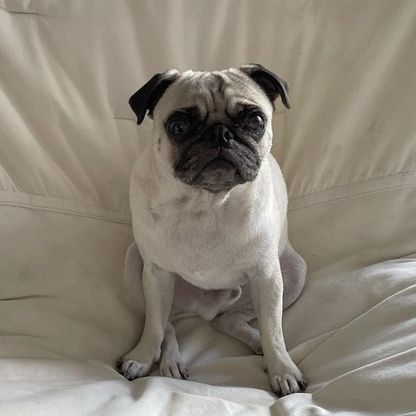Pug: (108, 56, 315, 399)
